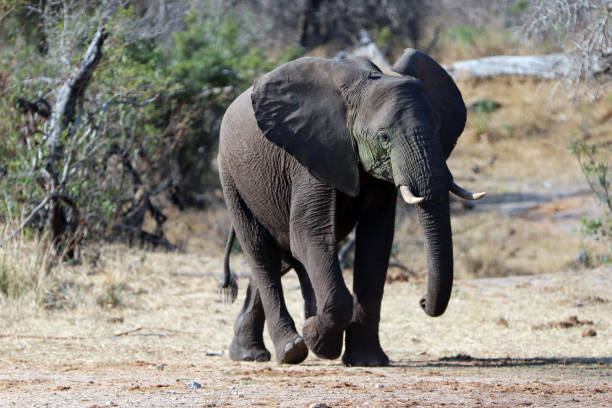africanelephant: (319, 58, 474, 250)
